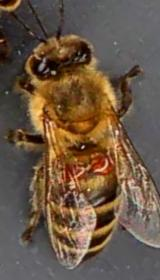varroa_mite: (56, 150, 86, 188), (86, 152, 120, 179)
